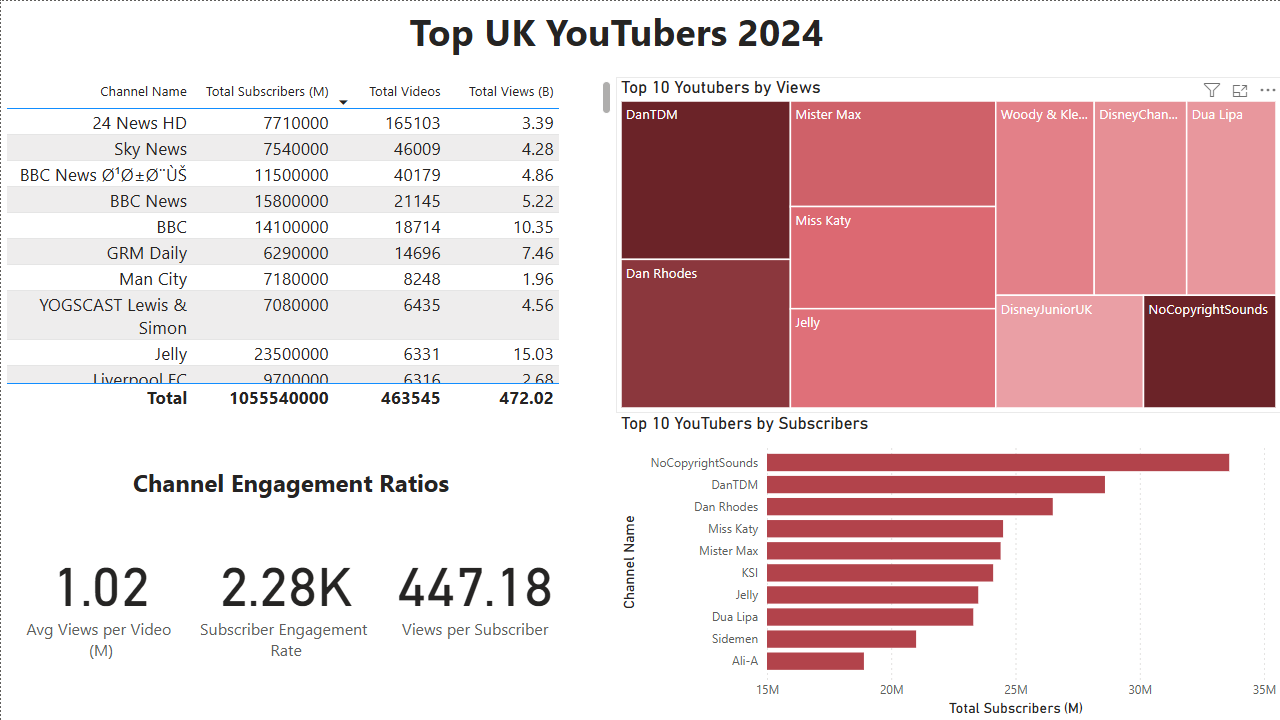

What the dashboard file says about the page in this screenshot:
{"tool":"powerbi","page":{"name":"Page 1","canvas":[1280,720],"ordinal":0},"visuals":[{"type":"textbox","box":[338,0,554.5,76],"z":0},{"type":"tableEx","fields":{"Values":["view_uk_youtubers_2024.channel_name","view_uk_youtubers_2024.Total Subscribers (M)","view_uk_youtubers_2024.Total Videos","view_uk_youtubers_2024.Total Views (B)"]},"box":[0,75.5,615.5,337.3],"z":1000},{"type":"treemap","title":"Top 10 Youtubers by Views","fields":{"Group":["view_uk_youtubers_2024.channel_name"],"Values":["view_uk_youtubers_2024.Total Views (B)"]},"box":[615.1,75.9,664.9,336.4],"z":2000},{"type":"card","fields":{"Values":["view_uk_youtubers_2024.Avg Views per Video (M)"]},"box":[3.8,491.9,191.8,195.6],"z":3000},{"type":"card","fields":{"Values":["view_uk_youtubers_2024.Subscriber Engagement Rate"]},"box":[189.9,491.9,189.9,195.6],"z":4000},{"type":"card","fields":{"Values":["view_uk_youtubers_2024.Views per Subscriber"]},"box":[385.5,491.9,176.6,195.6],"z":5000},{"type":"textbox","box":[64.6,459.6,450.1,51.3],"z":6000},{"type":"clusteredBarChart","title":"Top 10 YouTubers by Subscribers","fields":{"Category":["view_uk_youtubers_2024.channel_name"],"Y":["view_uk_youtubers_2024.Total Subscribers (M)"]},"box":[615.3,412.1,664.7,307.7],"z":7000}]}

Visuals, with their boxes in screenshot pixels (x1, y1, x2, y2), scaled from the page's 1280x720 canvas onto the 1280x720 screenshot:
textbox: rect(338, 0, 892, 76)
tableEx - view_uk_youtubers_2024.channel_name x view_uk_youtubers_2024.Total Subscribers (M): rect(0, 76, 616, 413)
"Top 10 Youtubers by Views" treemap: rect(615, 76, 1279, 412)
card - view_uk_youtubers_2024.Avg Views per Video (M): rect(4, 492, 196, 688)
card - view_uk_youtubers_2024.Subscriber Engagement Rate: rect(190, 492, 380, 688)
card - view_uk_youtubers_2024.Views per Subscriber: rect(386, 492, 562, 688)
textbox: rect(65, 460, 515, 511)
"Top 10 YouTubers by Subscribers" clusteredBarChart: rect(615, 412, 1279, 719)
